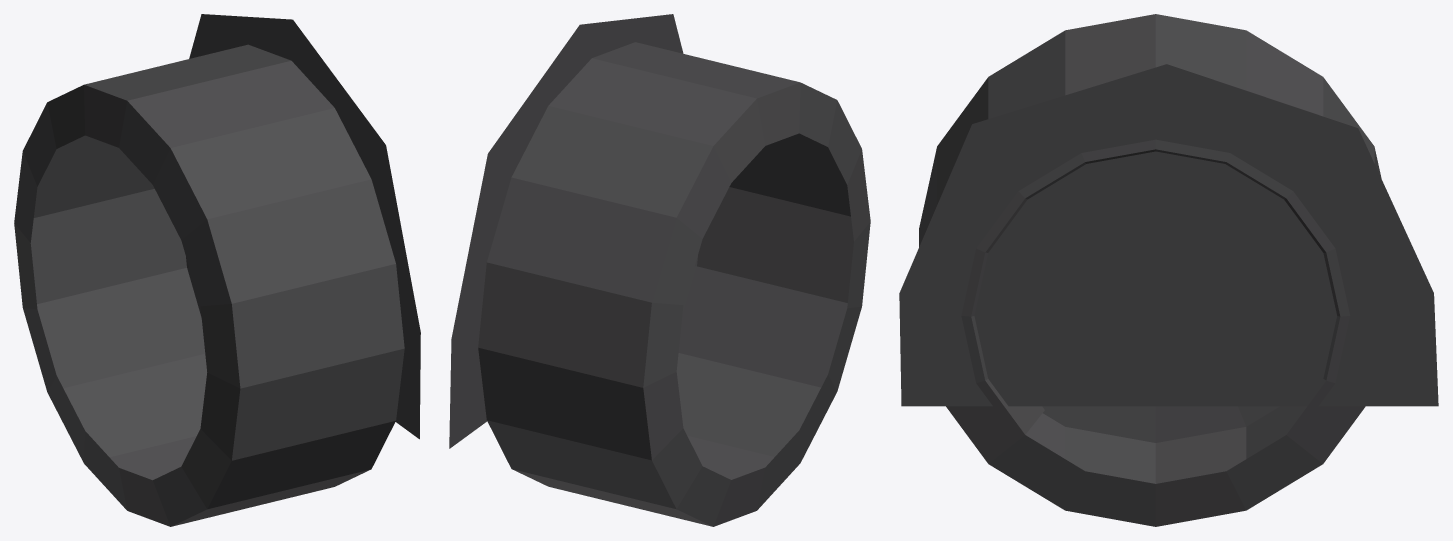
Rendered from leftTire.glb.
3 renders of one model, left to right at view 1: azimuth 30°, elevation 25°; view 2: azimuth 150°, elevation 25°; view 3: azimuth 270°, elevation 25°, orthographic. The views are drawn at different scales.
Visible parts, largest first — view 1: leftTire_Cube.005; view 2: leftTire_Cube.005; view 3: leftTire_Cube.005.
Boxes of the visible parts, bbox=[...] form: leftTire_Cube.005: bbox=[14, 14, 420, 526]; leftTire_Cube.005: bbox=[449, 14, 870, 526]; leftTire_Cube.005: bbox=[899, 14, 1438, 526].
Size of the model in its own units: 0.3232 by 0.761 by 0.7976.
Materials: 1 (1 with a texture image).
